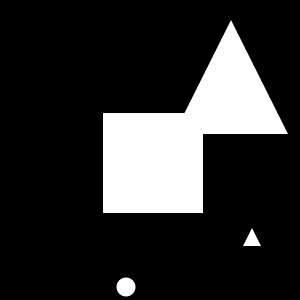circle: (103, 113, 203, 213)
rectangle: (116, 278, 136, 296)
triangle: (174, 20, 288, 134), (243, 228, 261, 246)
